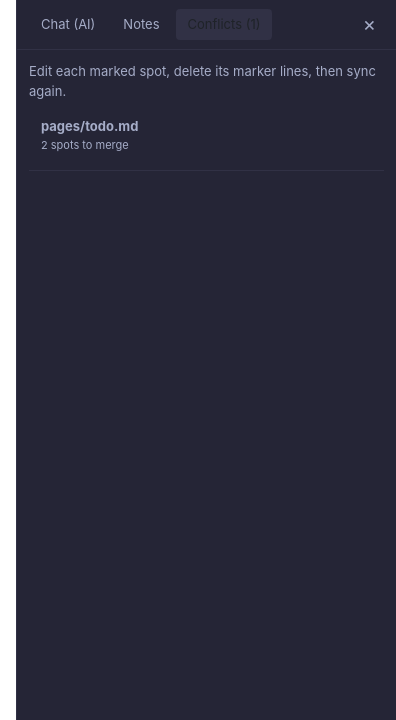
Scenario: Conflicts tab › explains an unavailable note instead of failing silently
Click the button with aria-label "Open pages/todo.md" at (90, 126), box [29,111,384,160]
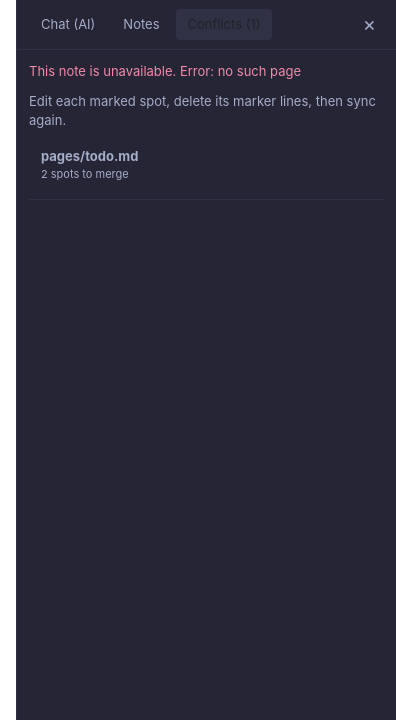
Check: the message "This note is unavailable. Error: no such page" is shown, box [29,63,301,79]
